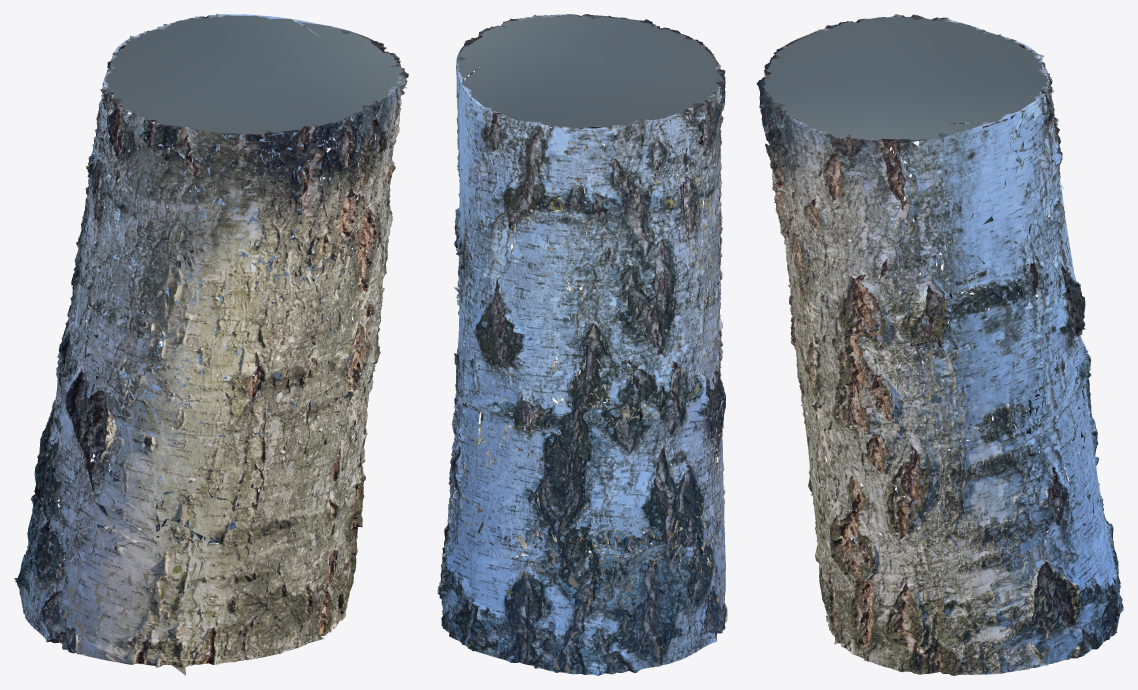
The picture shows the model from 3 angles, left to right: view 1: azimuth 30°, elevation 25°; view 2: azimuth 150°, elevation 25°; view 3: azimuth 270°, elevation 25°; orthographic projection. The views are drawn at different scales.
Visible parts, largest first — view 1: model; view 2: model; view 3: model.
Part boxes in pixels (x1,y1,x2,y2): model: (14, 14, 408, 675); model: (437, 14, 727, 675); model: (756, 14, 1123, 675).
Size of the model in its own units: 0.2551 by 0.4389 by 0.2675.
Materials: 1 (1 with a texture image).
